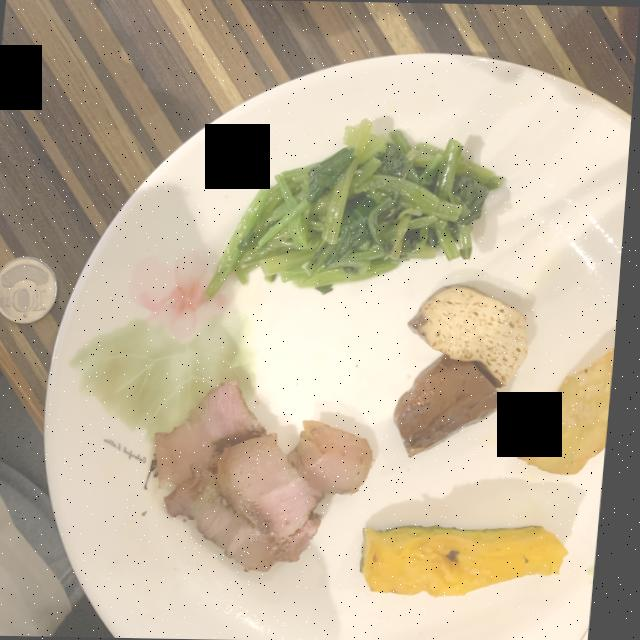coin: (0, 256, 61, 322)
firm tofu: (400, 284, 533, 455)
grilled pork: (161, 380, 379, 569)
mustard greens: (211, 118, 506, 297)
pumpkin: (368, 524, 576, 595)
